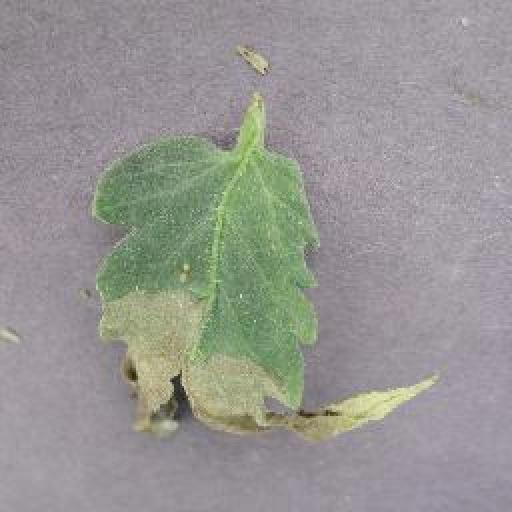disease_tomato: (90, 86, 438, 446)
